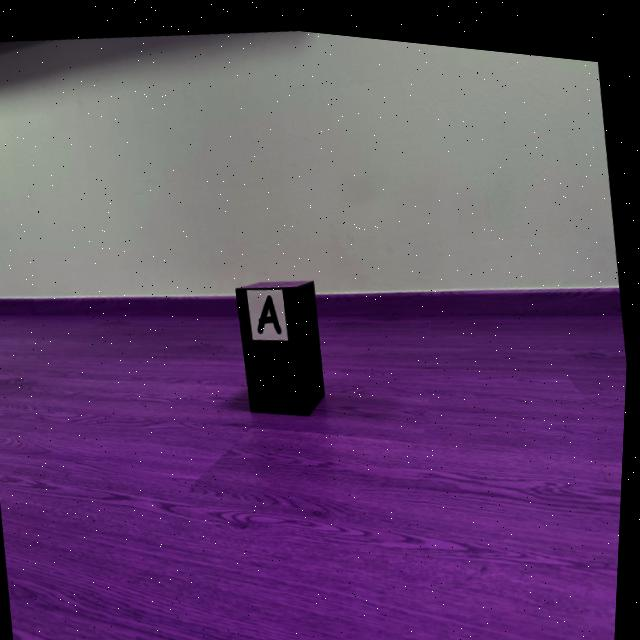A: (261, 289, 284, 328)
